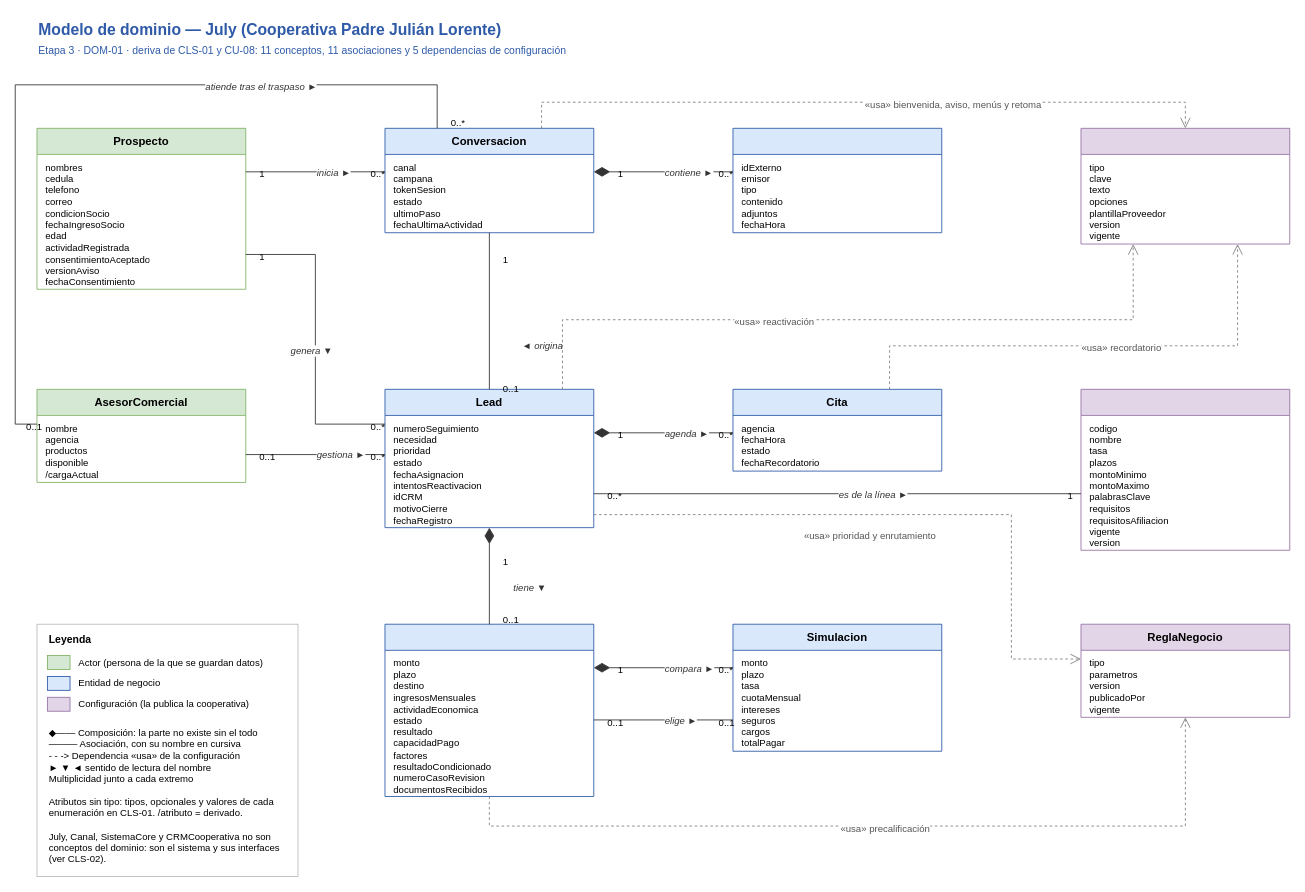
Image size: 1305x892. Some labels were removed from this diagram. Here are the shapes that lost their labels. From the top down, the box of each, then its label:
(732, 127, 942, 233): Mensaje
(1080, 127, 1290, 244): PlantillaMensaje
(1080, 388, 1290, 550): LineaCredito
(384, 623, 594, 796): SolicitudCredito
